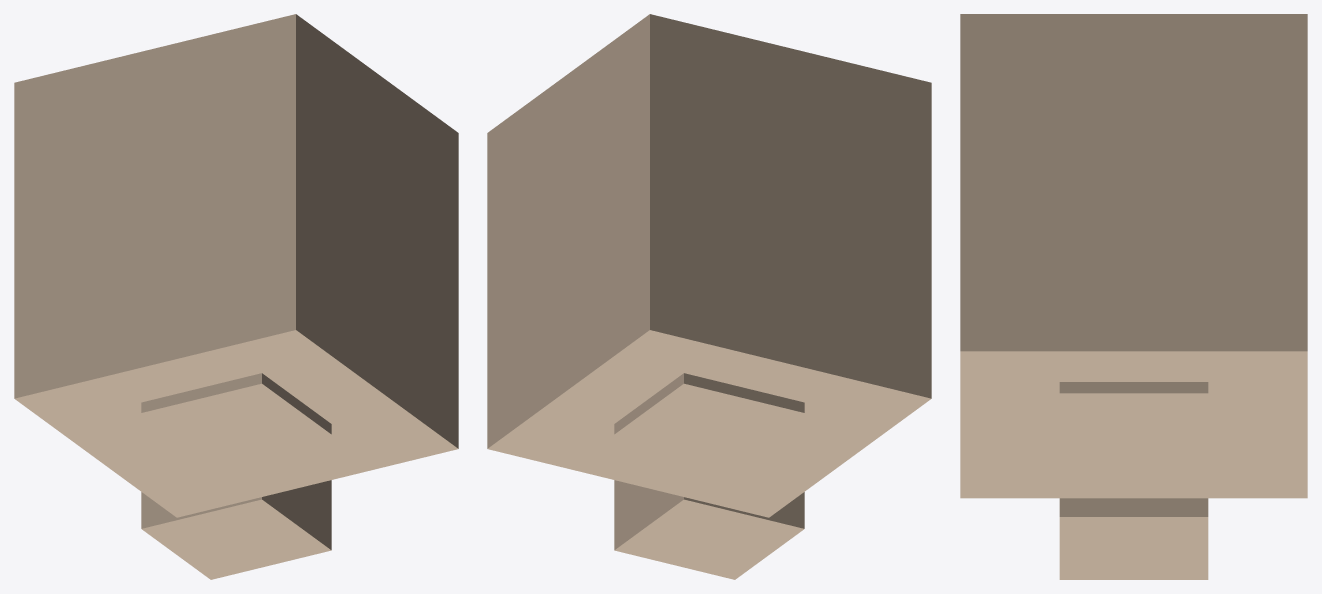
File: head_f_02.glb
The picture shows the model from 3 angles, left to right: view 1: azimuth 30°, elevation 25°; view 2: azimuth 150°, elevation 25°; view 3: azimuth 270°, elevation 25°; orthographic projection. The views are drawn at different scales.
Parts seen in each view (by area): view 1: Part; view 2: Part; view 3: Part.
Boxes of the visible parts, left/top/right/bottom form: Part: left=14, top=14, right=458, bottom=579; Part: left=487, top=14, right=931, bottom=579; Part: left=960, top=14, right=1307, bottom=579.
Size of the model in its own units: 0.28 by 0.41 by 0.28.
